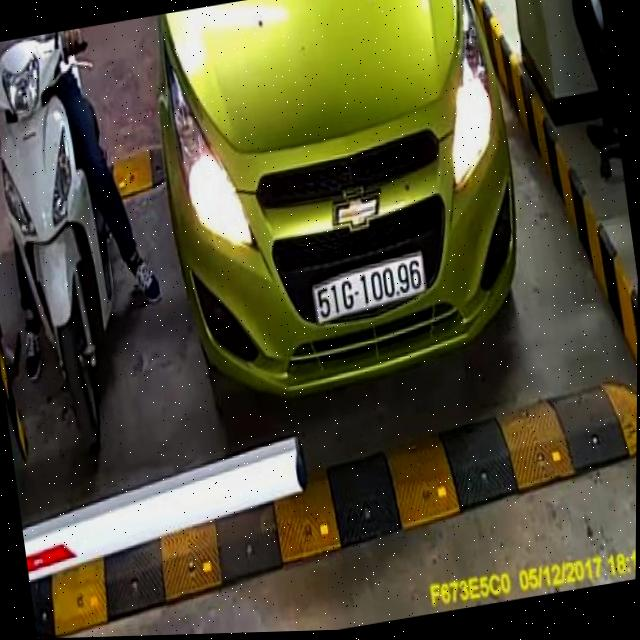car: (139, 0, 557, 424)
motorcycle: (0, 23, 163, 477)
plate: (304, 249, 435, 328)
